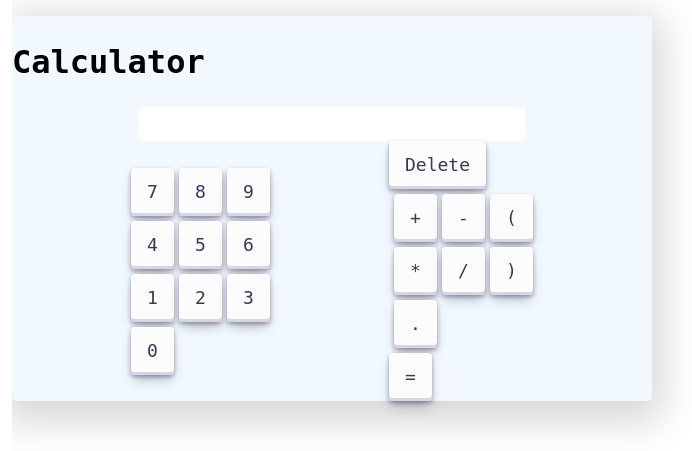
it: Calculator › Should show use input after clicking numbers and operations signs
Click the button "1" at (153, 298), box [131,274,174,322]
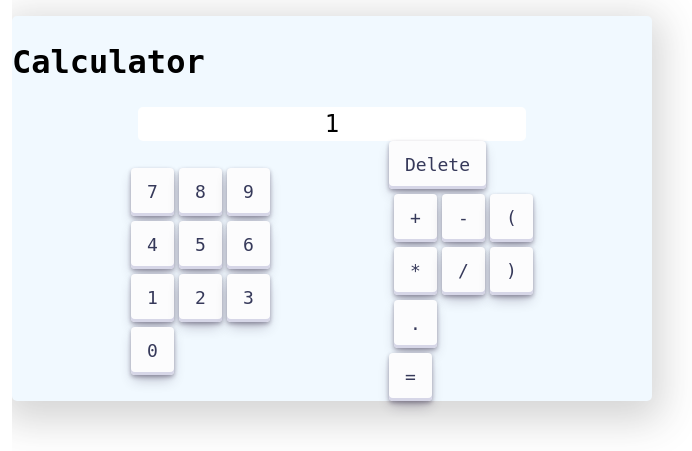
Click the button "+" at (416, 218), box [394,194,437,242]
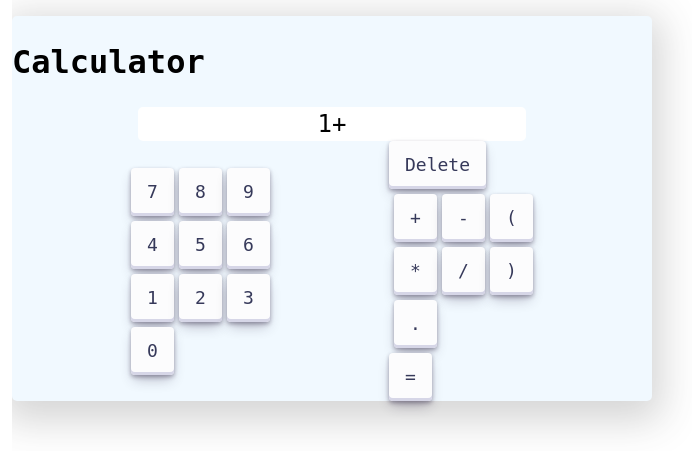
Click the button "1" at (153, 298), box [131,274,174,322]
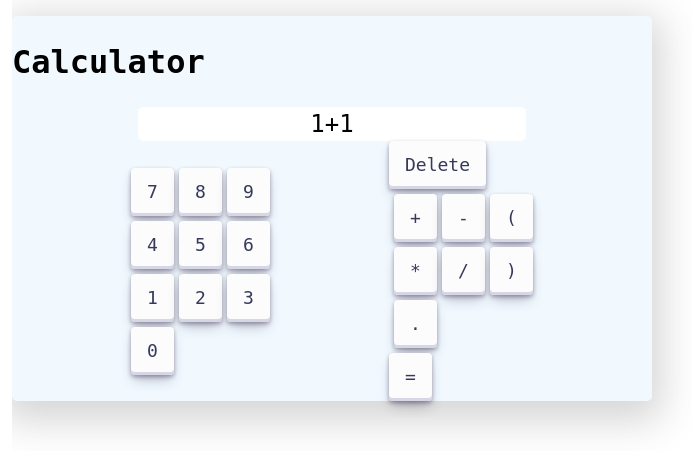
Check: the field holds "1+1", box [138,107,526,141]
